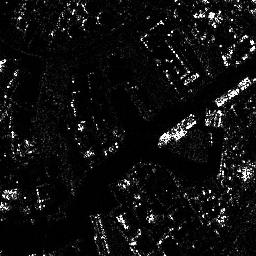ship: (158, 111, 196, 144)
